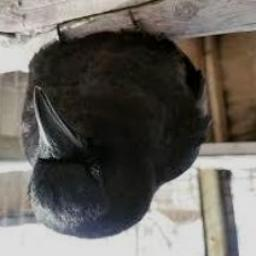Crow: (21, 8, 213, 240)
